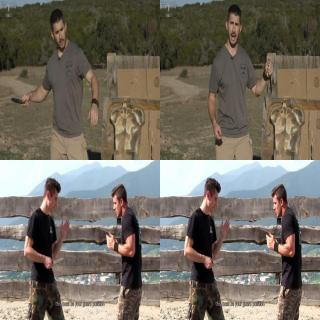knife: (265, 58, 274, 94), (10, 94, 30, 108), (44, 255, 64, 269), (204, 255, 224, 269)
